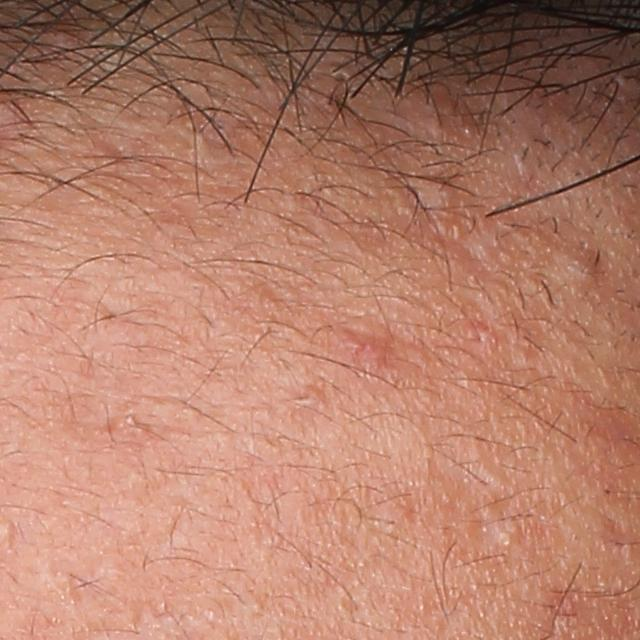comedo: (412, 172, 468, 212)
papule: (340, 324, 395, 367)
